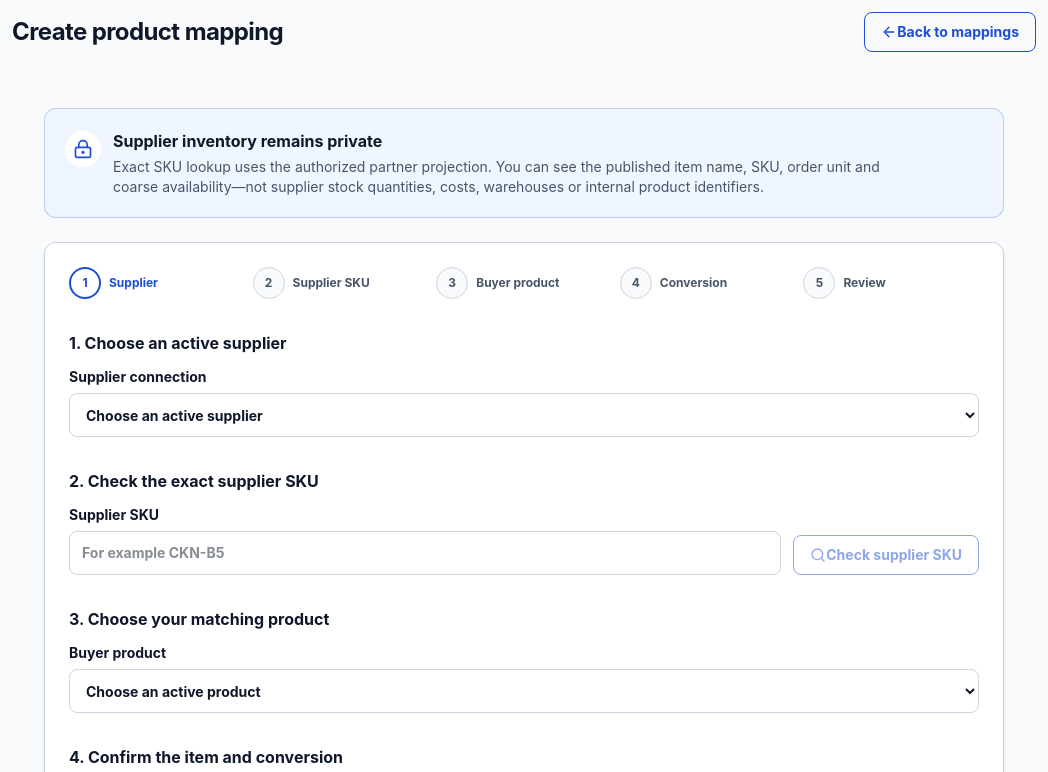
Test: ProductMappingWizardScreen › shows ITEM_UNPUBLISHED when lookup fails with ITEM_UNPUBLISHED (CATALOG_ITEM_NOT_PUBLISHED)
The image size is (1048, 772).
Step 1. Select "Supplier A (@supp-a)" in the dropdown labelled "Supplier connection" → (524, 415), box [69, 393, 979, 437]
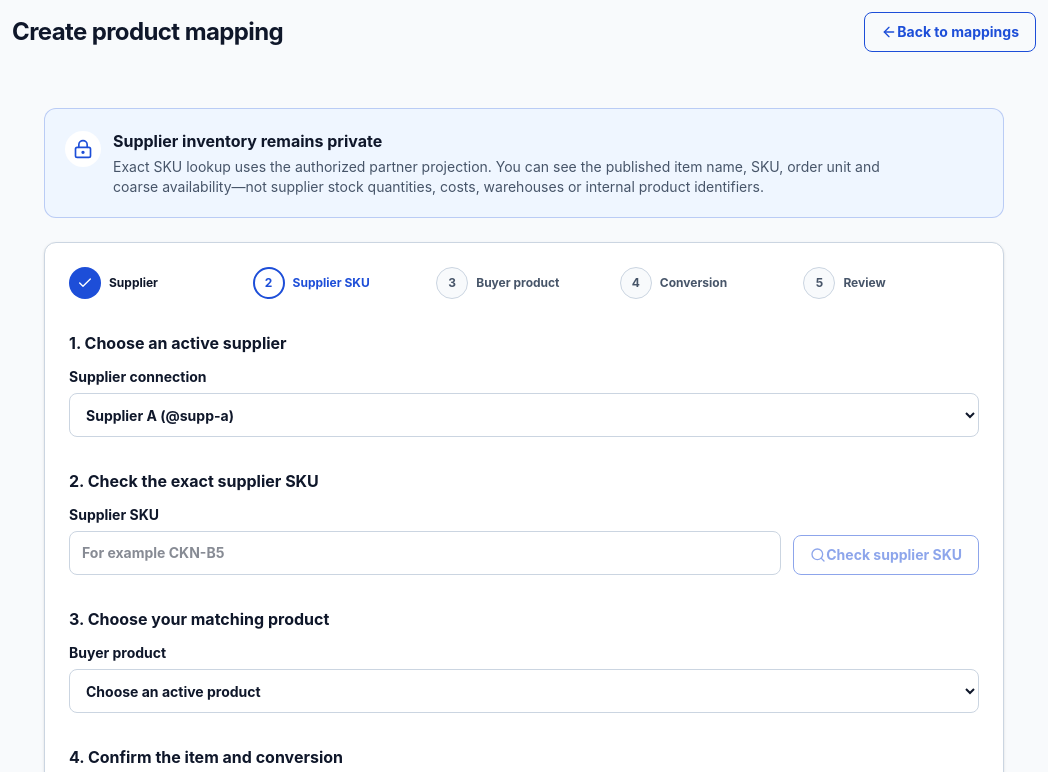
Step 2. Type "SKU123" into the field labelled "Supplier SKU" → (425, 553), box [69, 531, 781, 575]
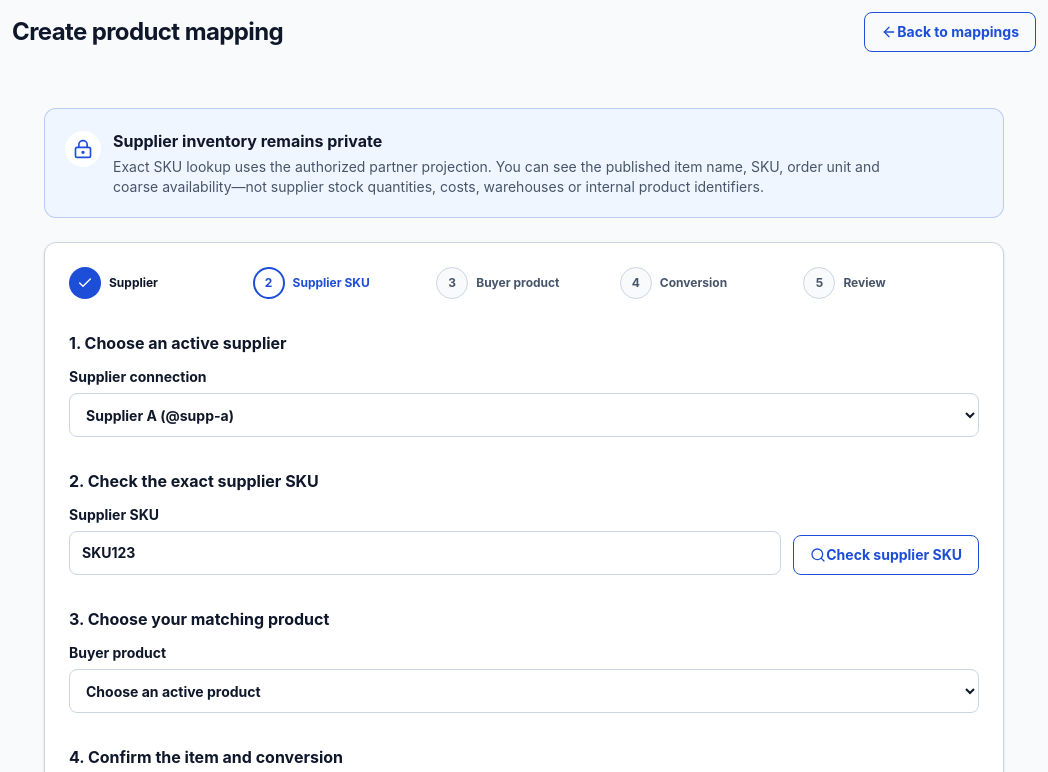
Step 3. Click the button "Check supplier SKU" → (886, 555), box [793, 535, 979, 575]
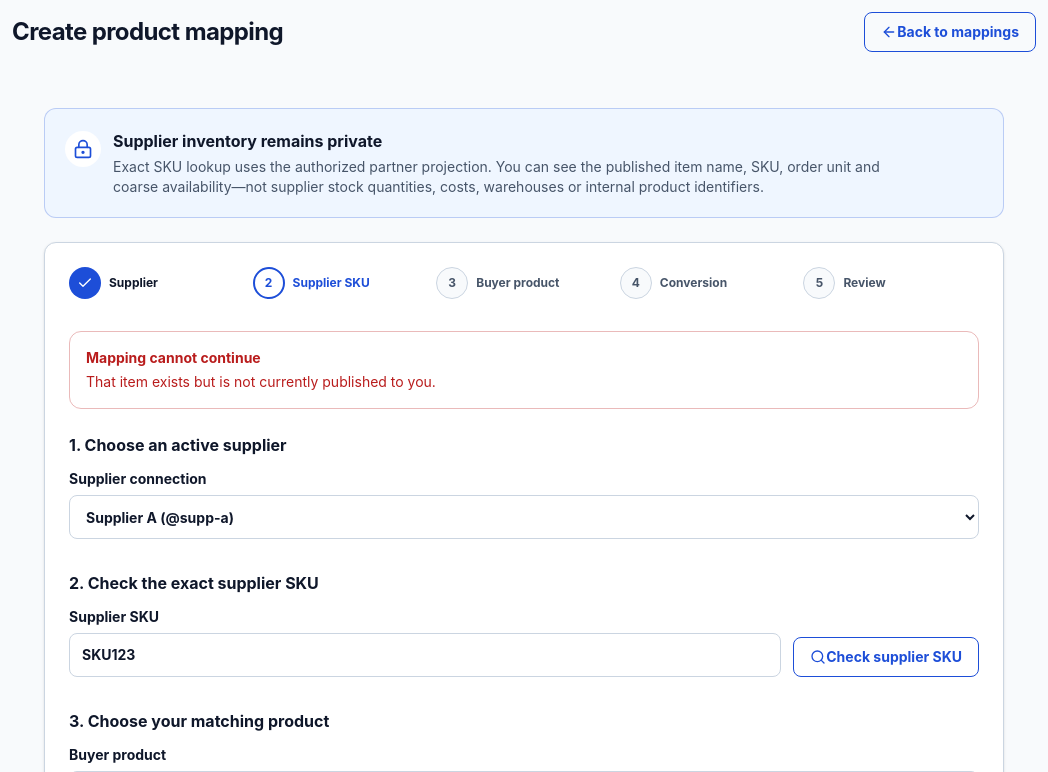
Expected: the text "That item exists but is not currently published to you." is shown, [86, 373, 436, 390]
